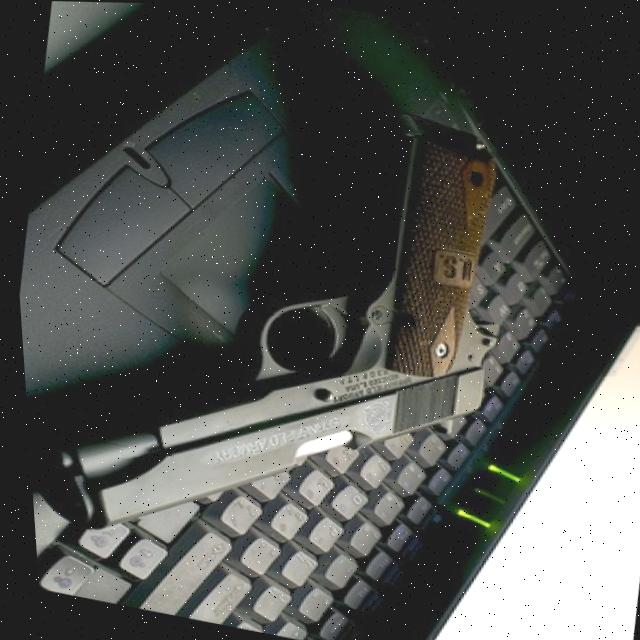pistol: (2, 40, 549, 607)
